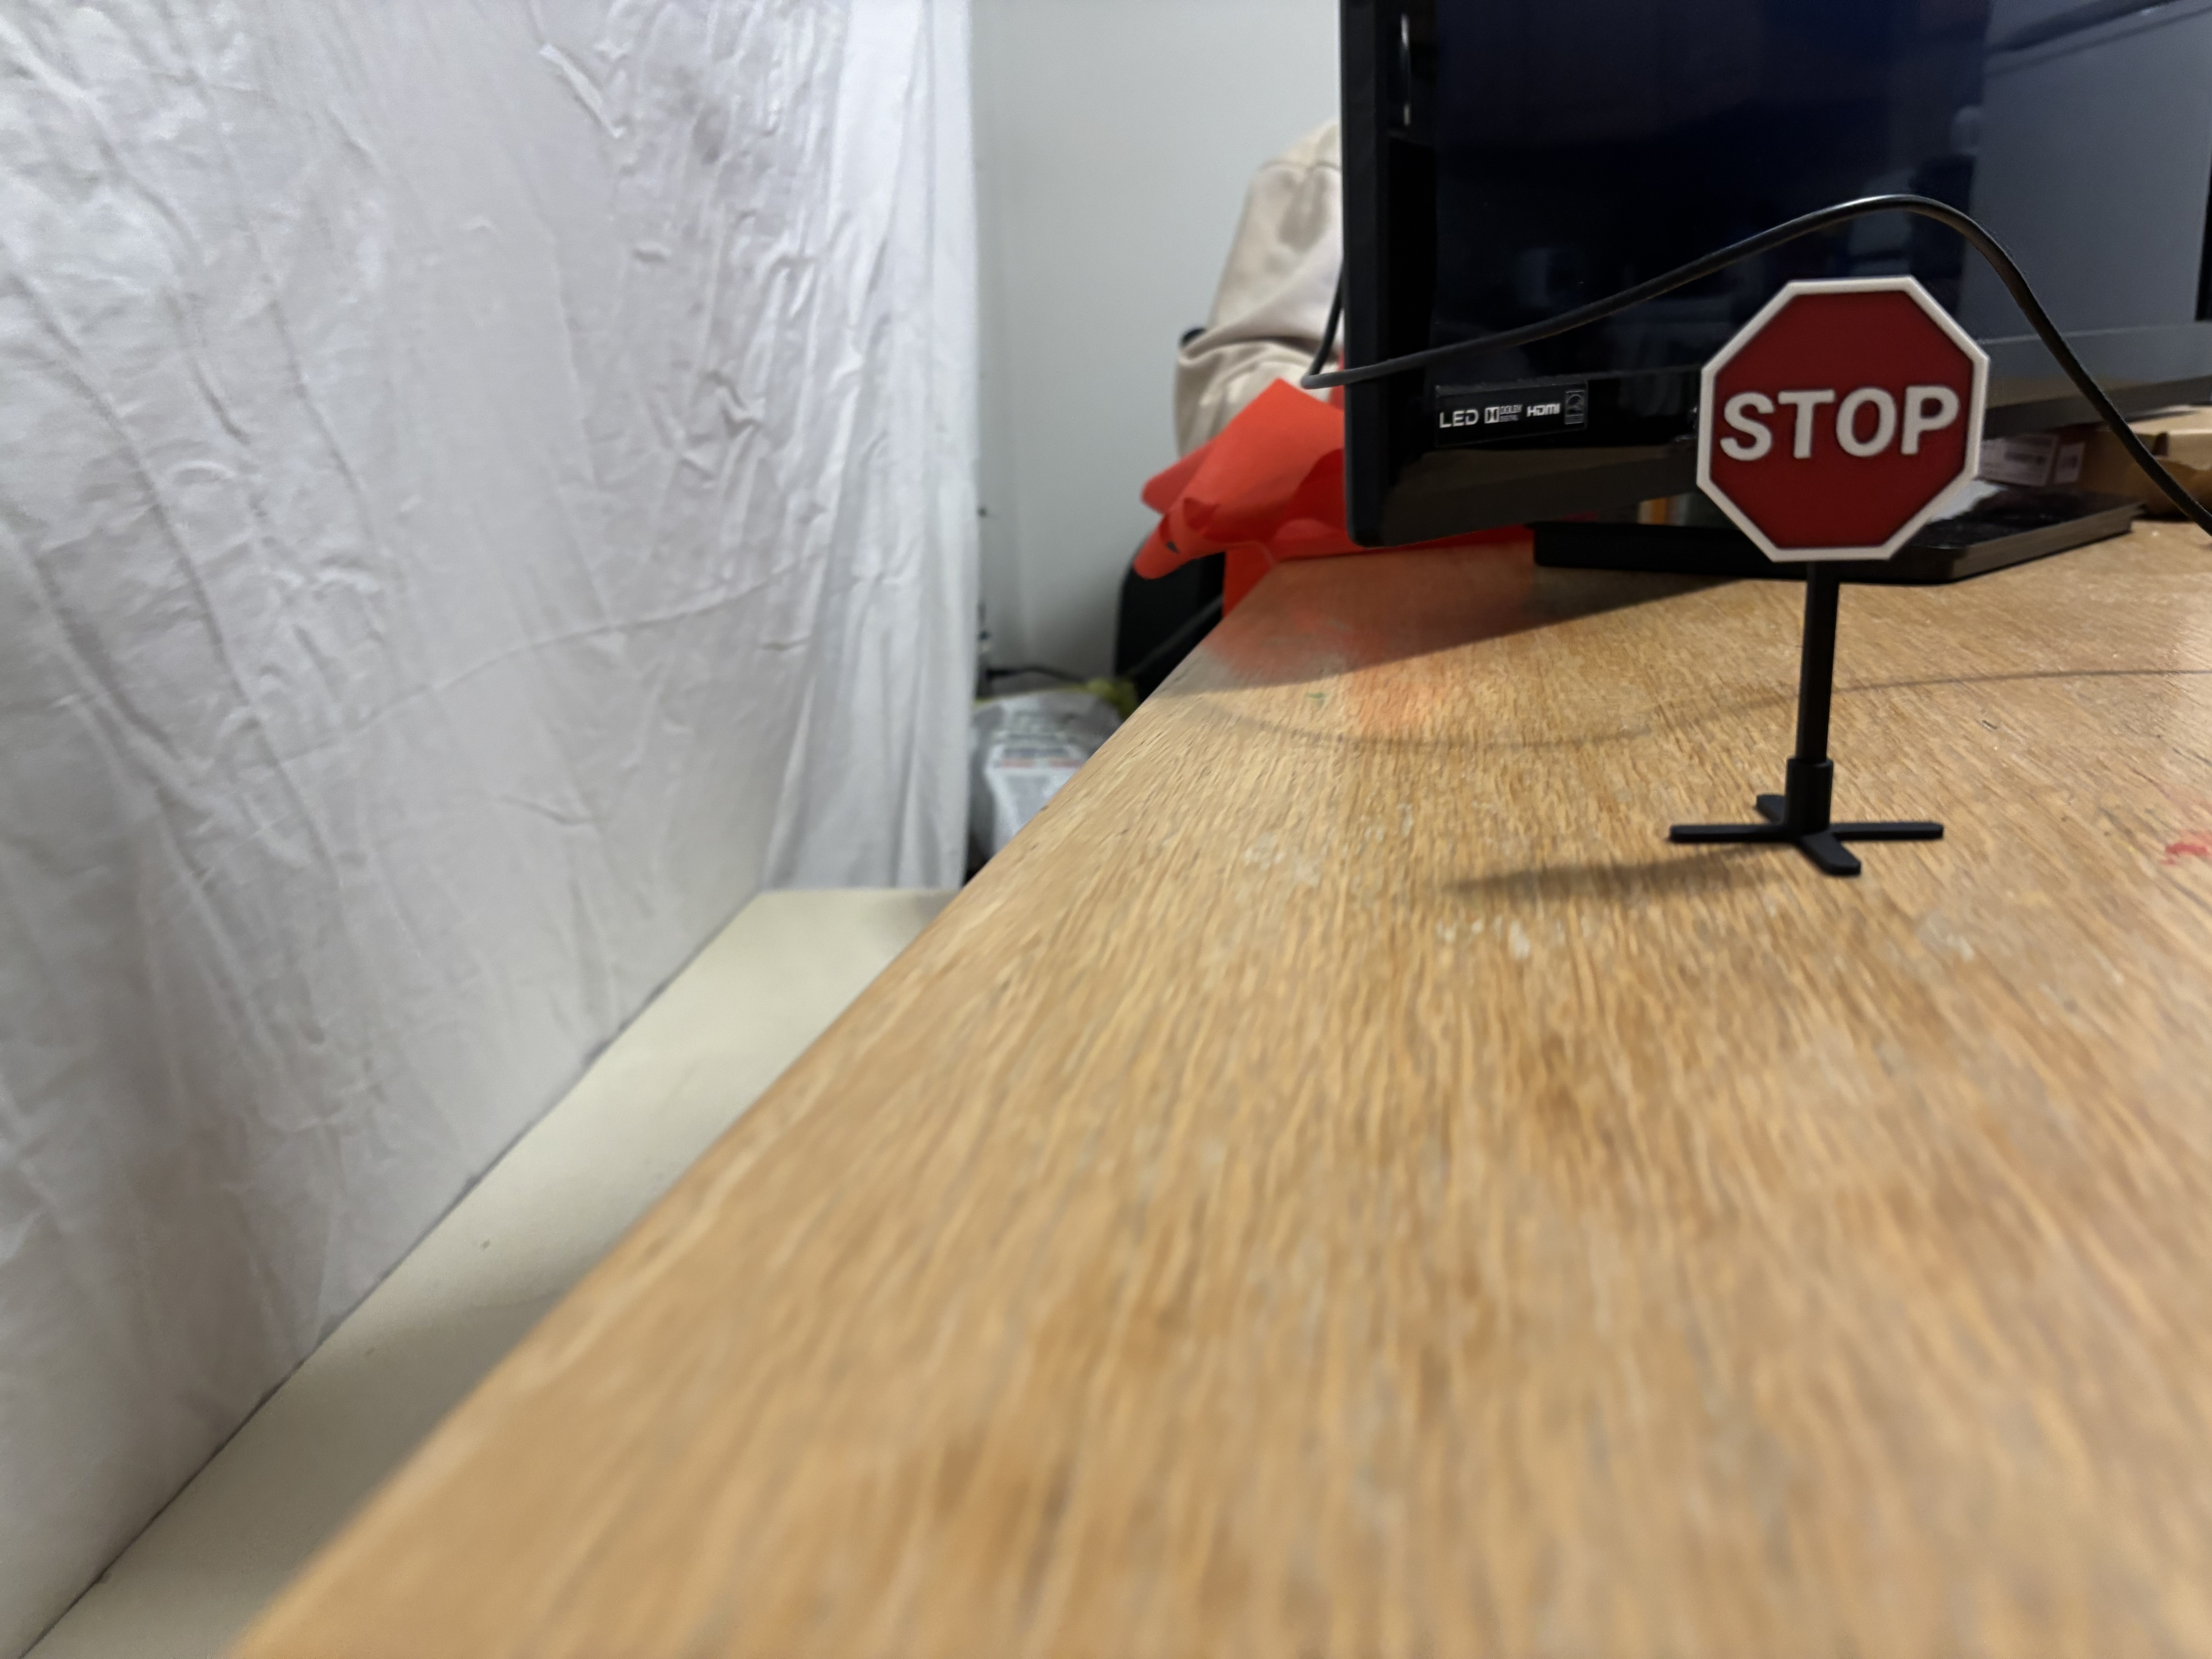sign_stop: (1705, 275, 1994, 582)
